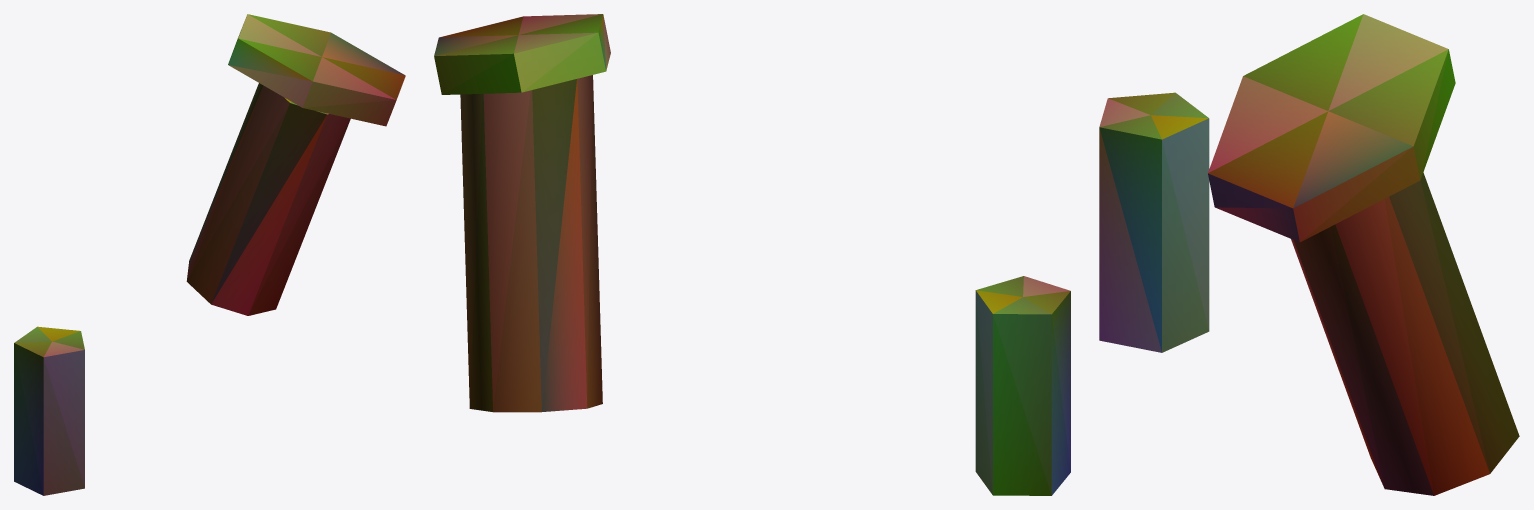
File: static_multi.fbx
The picture shows the model from 3 angles, left to right: view 1: azimuth 30°, elevation 25°; view 2: azimuth 150°, elevation 25°; view 3: azimuth 270°, elevation 25°; orthographic projection. The views are drawn at different scales.
Visible parts, largest first — view 1: Pillar, Cap, Mirror; view 2: Pillar, Mirror, Cap; view 3: Pillar, Cap, Mirror.
Part boxes in pixels (<box>): Pillar: <box>186,83,350,315</box>; Cap: <box>228,14,405,126</box>; Mirror: <box>14,326,84,495</box>; Pillar: <box>460,75,602,412</box>; Mirror: <box>975,276,1070,495</box>; Cap: <box>434,14,610,94</box>; Pillar: <box>1291,172,1519,495</box>; Cap: <box>1208,14,1455,242</box>; Mirror: <box>1099,92,1209,352</box>.
Bounding box in the file's own units: 389 × 285 × 214.
